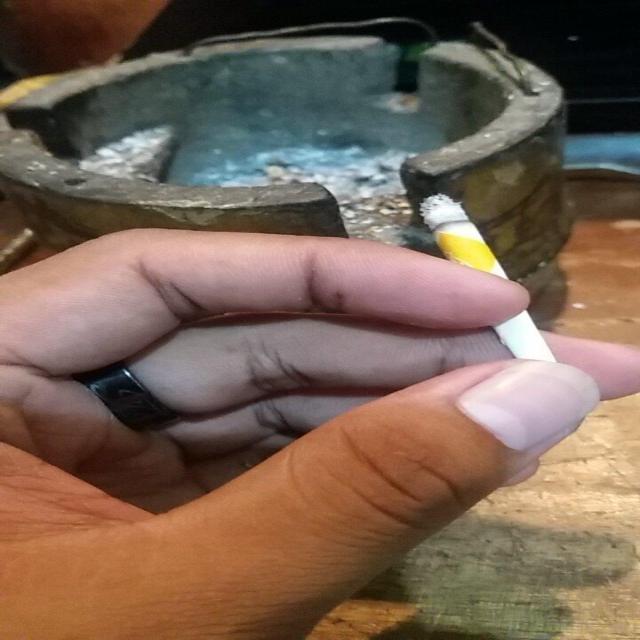rokok: (409, 190, 568, 376)
